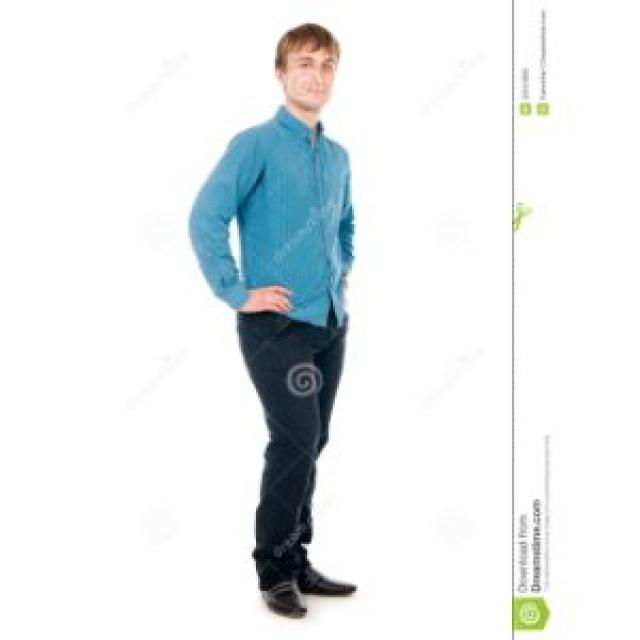adult: (190, 21, 363, 625)
